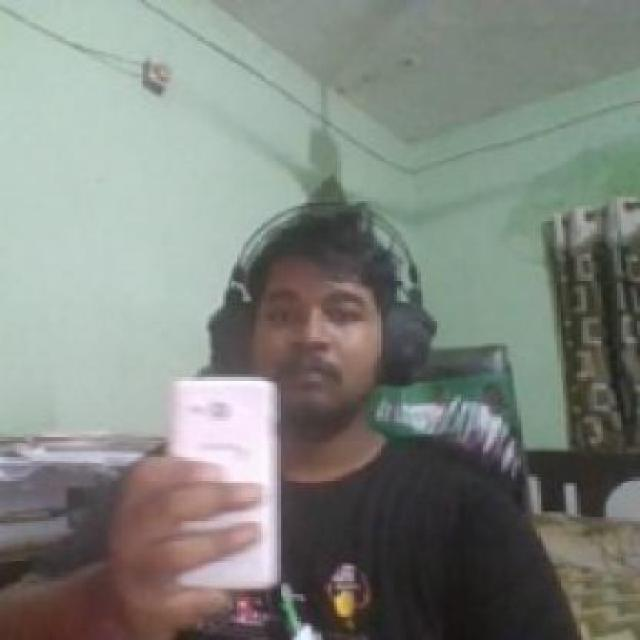Phone: (167, 374, 283, 590)
